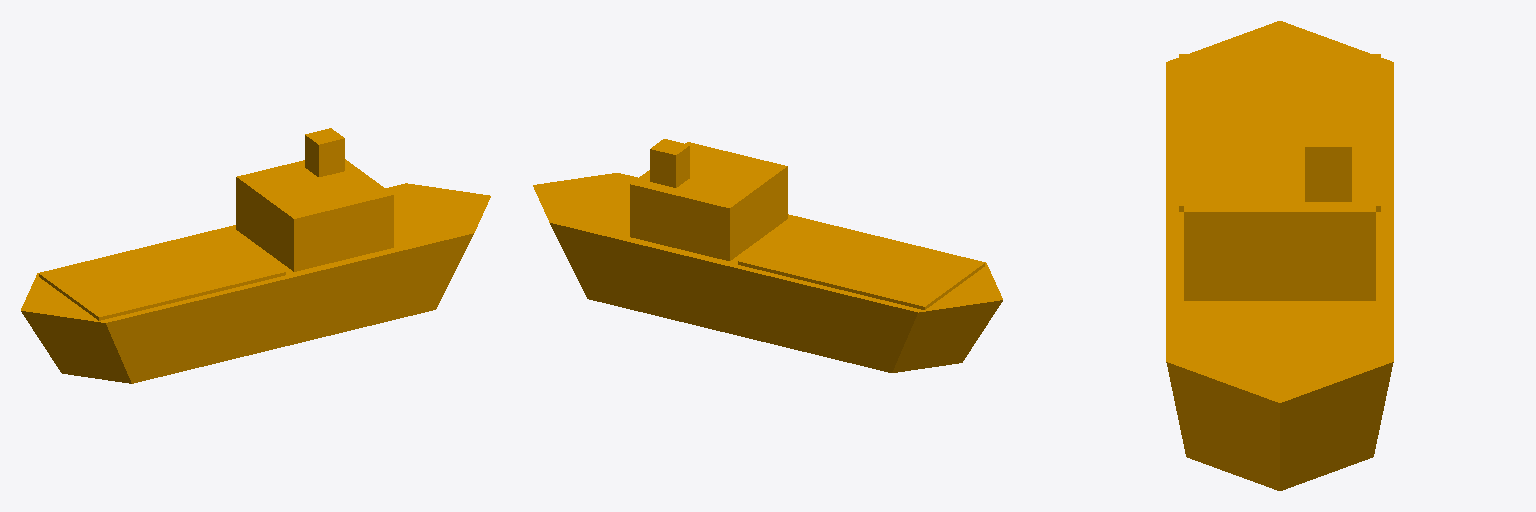
The robot description file, URDF, robot "halcyon":
<?xml version="1.0" ?>
<robot name="halcyon">
  <link name="halcyon">
    <inertial>
      <mass value="9000"/>
      <origin rpy="0  0  0" xyz="-1.46944  0.00434  1.36259"/>
      <inertia ixx="13672.278298768" ixy="-85.371609812" ixz="-3681" iyy="94387.862230274" iyz="-103.426416578" izz="94901.603096338"/>
    </inertial>
    <collision name="halcyon_base_collision">
      <origin rpy="0  0  0" xyz="0.19386  0.29812  0"/>
      <geometry>
        <mesh filename="package://mimree_description/meshes/mimree_asv/boat_base.stl" scale="1.0 1.0 1.0"/>
      </geometry>
    </collision>
    <collision name="halcyon_landing_pad_collision">
      <origin rpy="0  0  0" xyz="-4.30613  0.29812  2.1"/>
      <geometry>
        <box size="5.5 3.08 0.1"/>
      </geometry>
    </collision>
    <visual name="halcyon_base_visual">
      <origin rpy="0  0  0" xyz="0.19386  0.29812  0"/>
      <geometry>
        <mesh filename="package://mimree_description/meshes/mimree_asv/boat_base.stl" scale="1.0 1.0 1.0"/>
      </geometry>
    </visual>
    <visual name="halcyon_landing_pad_visual">
      <origin rpy="0  0  0" xyz="-4.30613  0.29812  2.1"/>
      <geometry>
        <box size="5.5 3.08 0.1"/>
      </geometry>
    </visual>
  </link>
</robot>

--- What the picture shows (computed from the rendered views, not written in the file) ---
3 views of the same robot in one strip: view 1: azimuth 30°, elevation 25°; view 2: azimuth 150°, elevation 25°; view 3: azimuth 270°, elevation 25° (orthographic).
Model halcyon with 1 links and 0 joints (none), rooted at halcyon, posed every joint at zero.
Links seen in each view (by area): view 1: halcyon; view 2: halcyon; view 3: halcyon.
Link boxes in pixels (x1,y1,x2,y2): halcyon: [21, 128, 490, 383]; halcyon: [533, 139, 1002, 372]; halcyon: [1166, 21, 1393, 490].
Bounding box of the posed robot: 13.86 × 3.48 × 4.47 m (x, y, z).
1 mesh visuals loaded from 1 distinct referenced files (1 ASCII STL).
